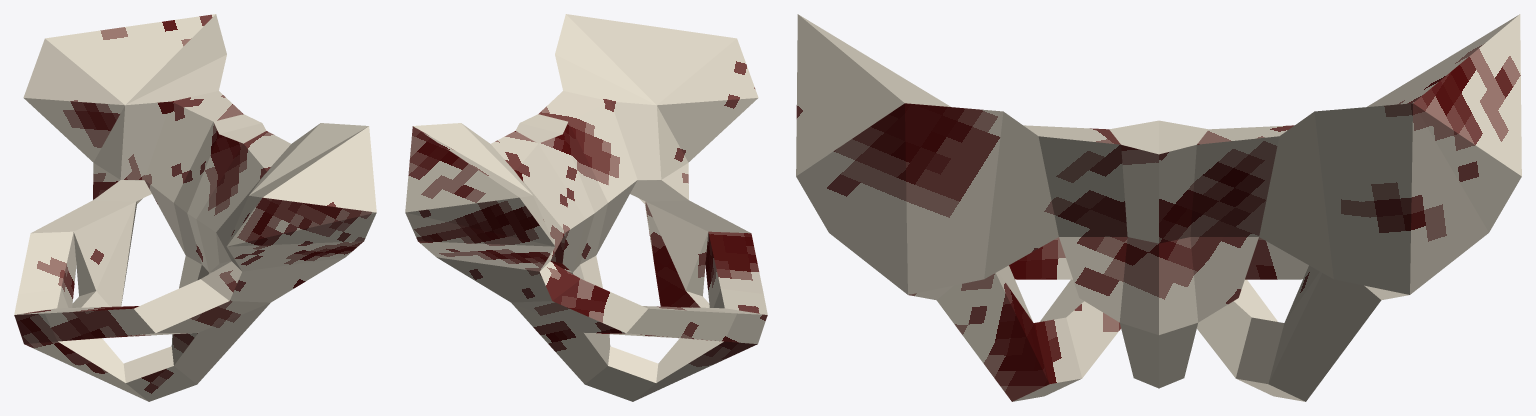
The model's file is HumanPelvis.fbx.
3 renders of one model, left to right at view 1: azimuth 30°, elevation 25°; view 2: azimuth 150°, elevation 25°; view 3: azimuth 270°, elevation 25°, orthographic. The views are drawn at different scales.
Visible parts, largest first — view 1: Pelvis; view 2: Pelvis; view 3: Pelvis.
Part boxes in pixels (x1,y1,x2,y2): Pelvis: (14,14,376,401); Pelvis: (405,14,767,401); Pelvis: (796,14,1521,401).
Bounding box in the file's own units: 238 × 215 × 323.
